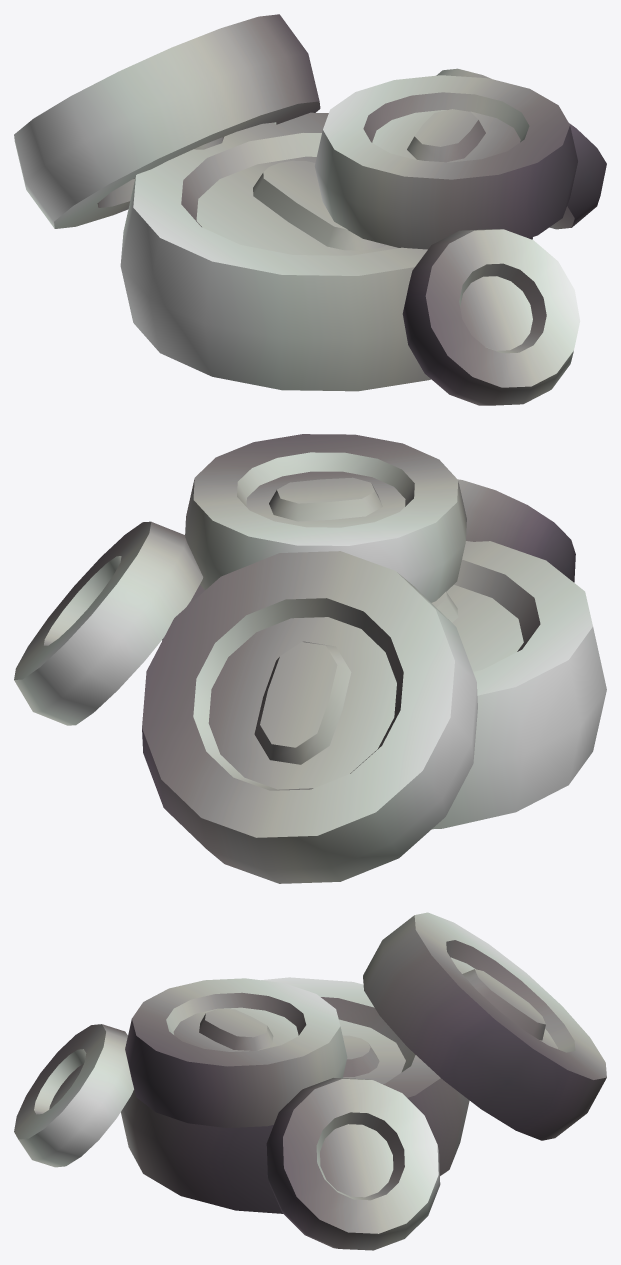
File: Silver_Coin_05.glb
3 renders of one model, top to bottom at view 1: azimuth 30°, elevation 25°; view 2: azimuth 150°, elevation 25°; view 3: azimuth 270°, elevation 25°, orthographic. The views are drawn at different scales.
Parts seen in each view (by area): view 1: Silver_Coin_05; view 2: Silver_Coin_05; view 3: Silver_Coin_05.
Part boxes in pixels (x1,y1,x2,y2): Silver_Coin_05: (14, 14, 606, 405); Silver_Coin_05: (14, 434, 606, 883); Silver_Coin_05: (14, 912, 606, 1250).
Size of the model in its own units: 0.6382 by 0.3086 by 0.814.
1 material, 1 textured.
